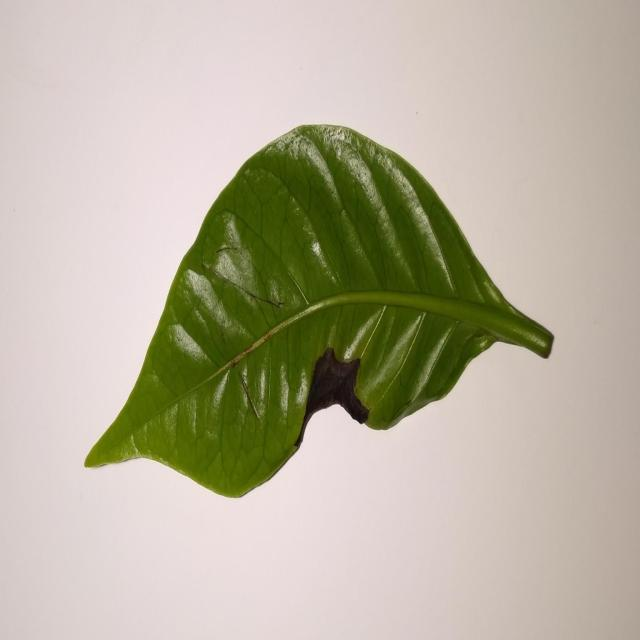Enfermedad-Antracnosis: (84, 124, 555, 500)
